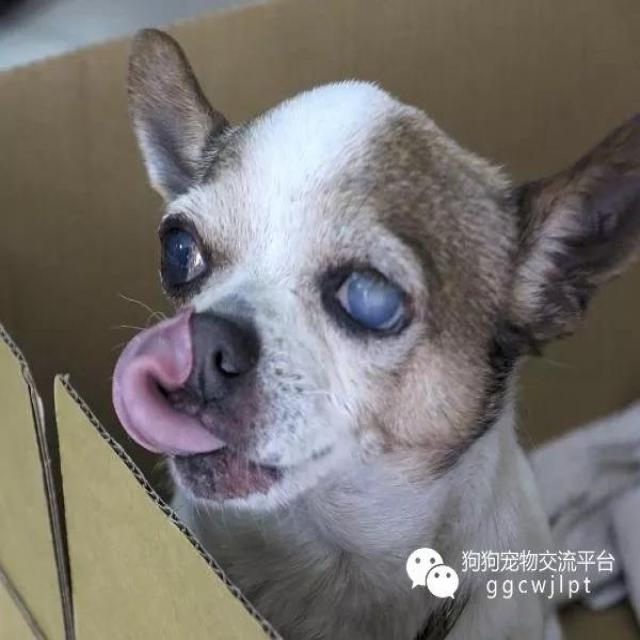eye: (325, 256, 417, 341), (155, 216, 212, 296)
